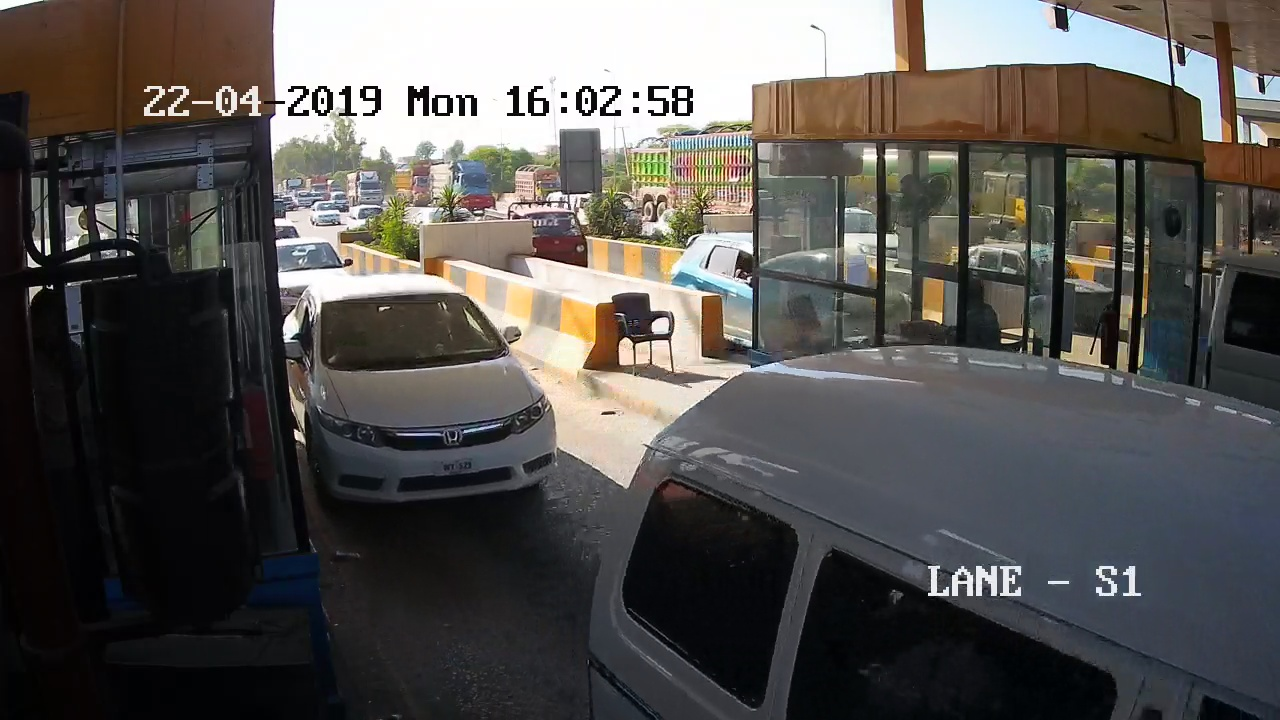Number Plate (Car): (429, 460, 482, 474)
